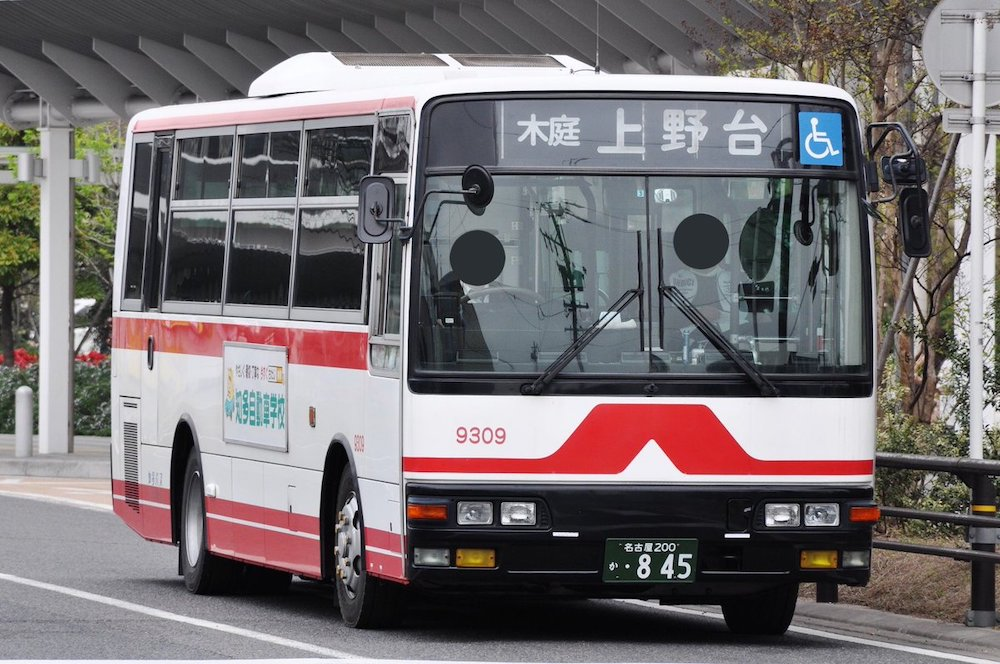destination: (493, 100, 797, 166)
